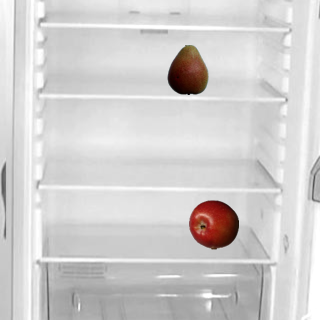Apple Braeburn: (188, 199, 238, 249)
Pear Forelle: (162, 44, 212, 94)
